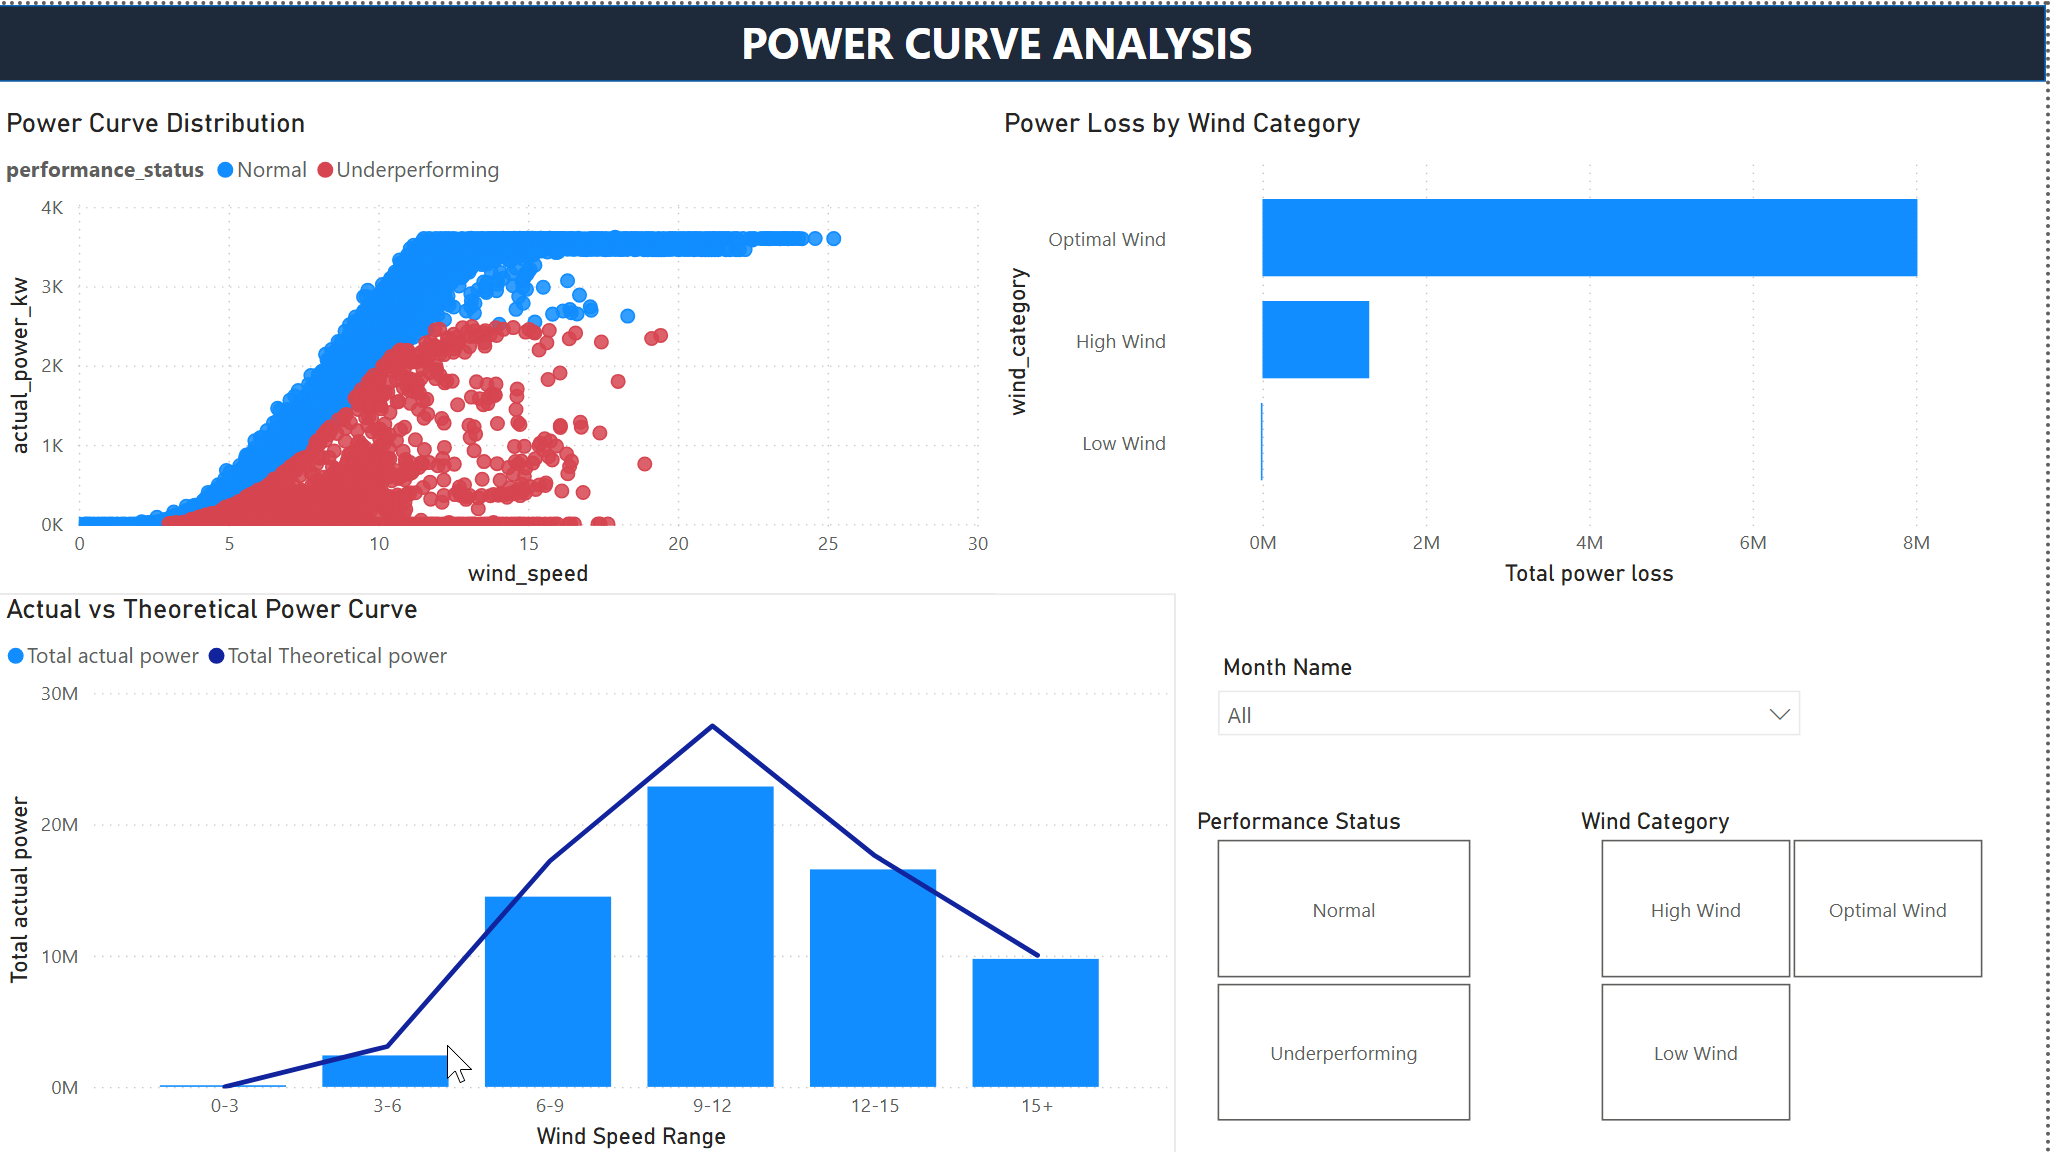

This screenshot's page, from the dashboard's own definition file:
{"tool":"powerbi","page":{"name":"Power Curve Analysis","canvas":[1280,720],"ordinal":1},"visuals":[{"type":"scatterChart","title":"Power Curve Distribution","fields":{"X":["wind_scada_analysis_202605160306.wind_speed"],"Y":["wind_scada_analysis_202605160306.actual_power_kw"],"Series":["wind_scada_analysis_202605160306.performance_status"]},"box":[0,64,624,304],"z":0},{"type":"lineClusteredColumnComboChart","title":"Actual vs Theoretical Power Curve","fields":{"Y":["Date Table.Total actual power"],"Y2":["Date Table.Total Theoretical power"],"Category":["wind_scada_analysis_202605160306.wind_speed_bin"]},"box":[0,368,736,352],"z":1000},{"type":"barChart","title":"Power Loss by Wind Category","fields":{"Category":["wind_scada_analysis_202605160306.wind_category"],"Y":["Date Table.Total power loss"]},"box":[624,64,640,304],"z":2000},{"type":"slicer","fields":{"Values":["Date Table.Month Name"]},"box":[752,400,384,80],"z":3000},{"type":"slicer","fields":{"Values":["wind_scada_analysis_202605160306.wind_category"]},"box":[976,496,288,208],"z":4000},{"type":"slicer","fields":{"Values":["wind_scada_analysis_202605160306.performance_status"]},"box":[736,496,208,208],"z":5000},{"type":"shape","box":[0,0,1280,48],"z":6000},{"type":"textbox","box":[0,0,1248,48],"z":7000}]}

Visuals, with their boxes in screenshot pixels (x1, y1, x2, y2), scaled from the page's 1280x720 canvas onto the 2050x1152 screenshot:
"Power Curve Distribution" scatterChart: 0:102:999:589
"Actual vs Theoretical Power Curve" lineClusteredColumnComboChart: 0:589:1179:1151
"Power Loss by Wind Category" barChart: 999:102:2024:589
slicer - Date Table.Month Name: 1204:640:1819:768
slicer - wind_scada_analysis_202605160306.wind_category: 1563:794:2024:1126
slicer - wind_scada_analysis_202605160306.performance_status: 1179:794:1512:1126
shape: 0:0:2049:77
textbox: 0:0:1999:77
